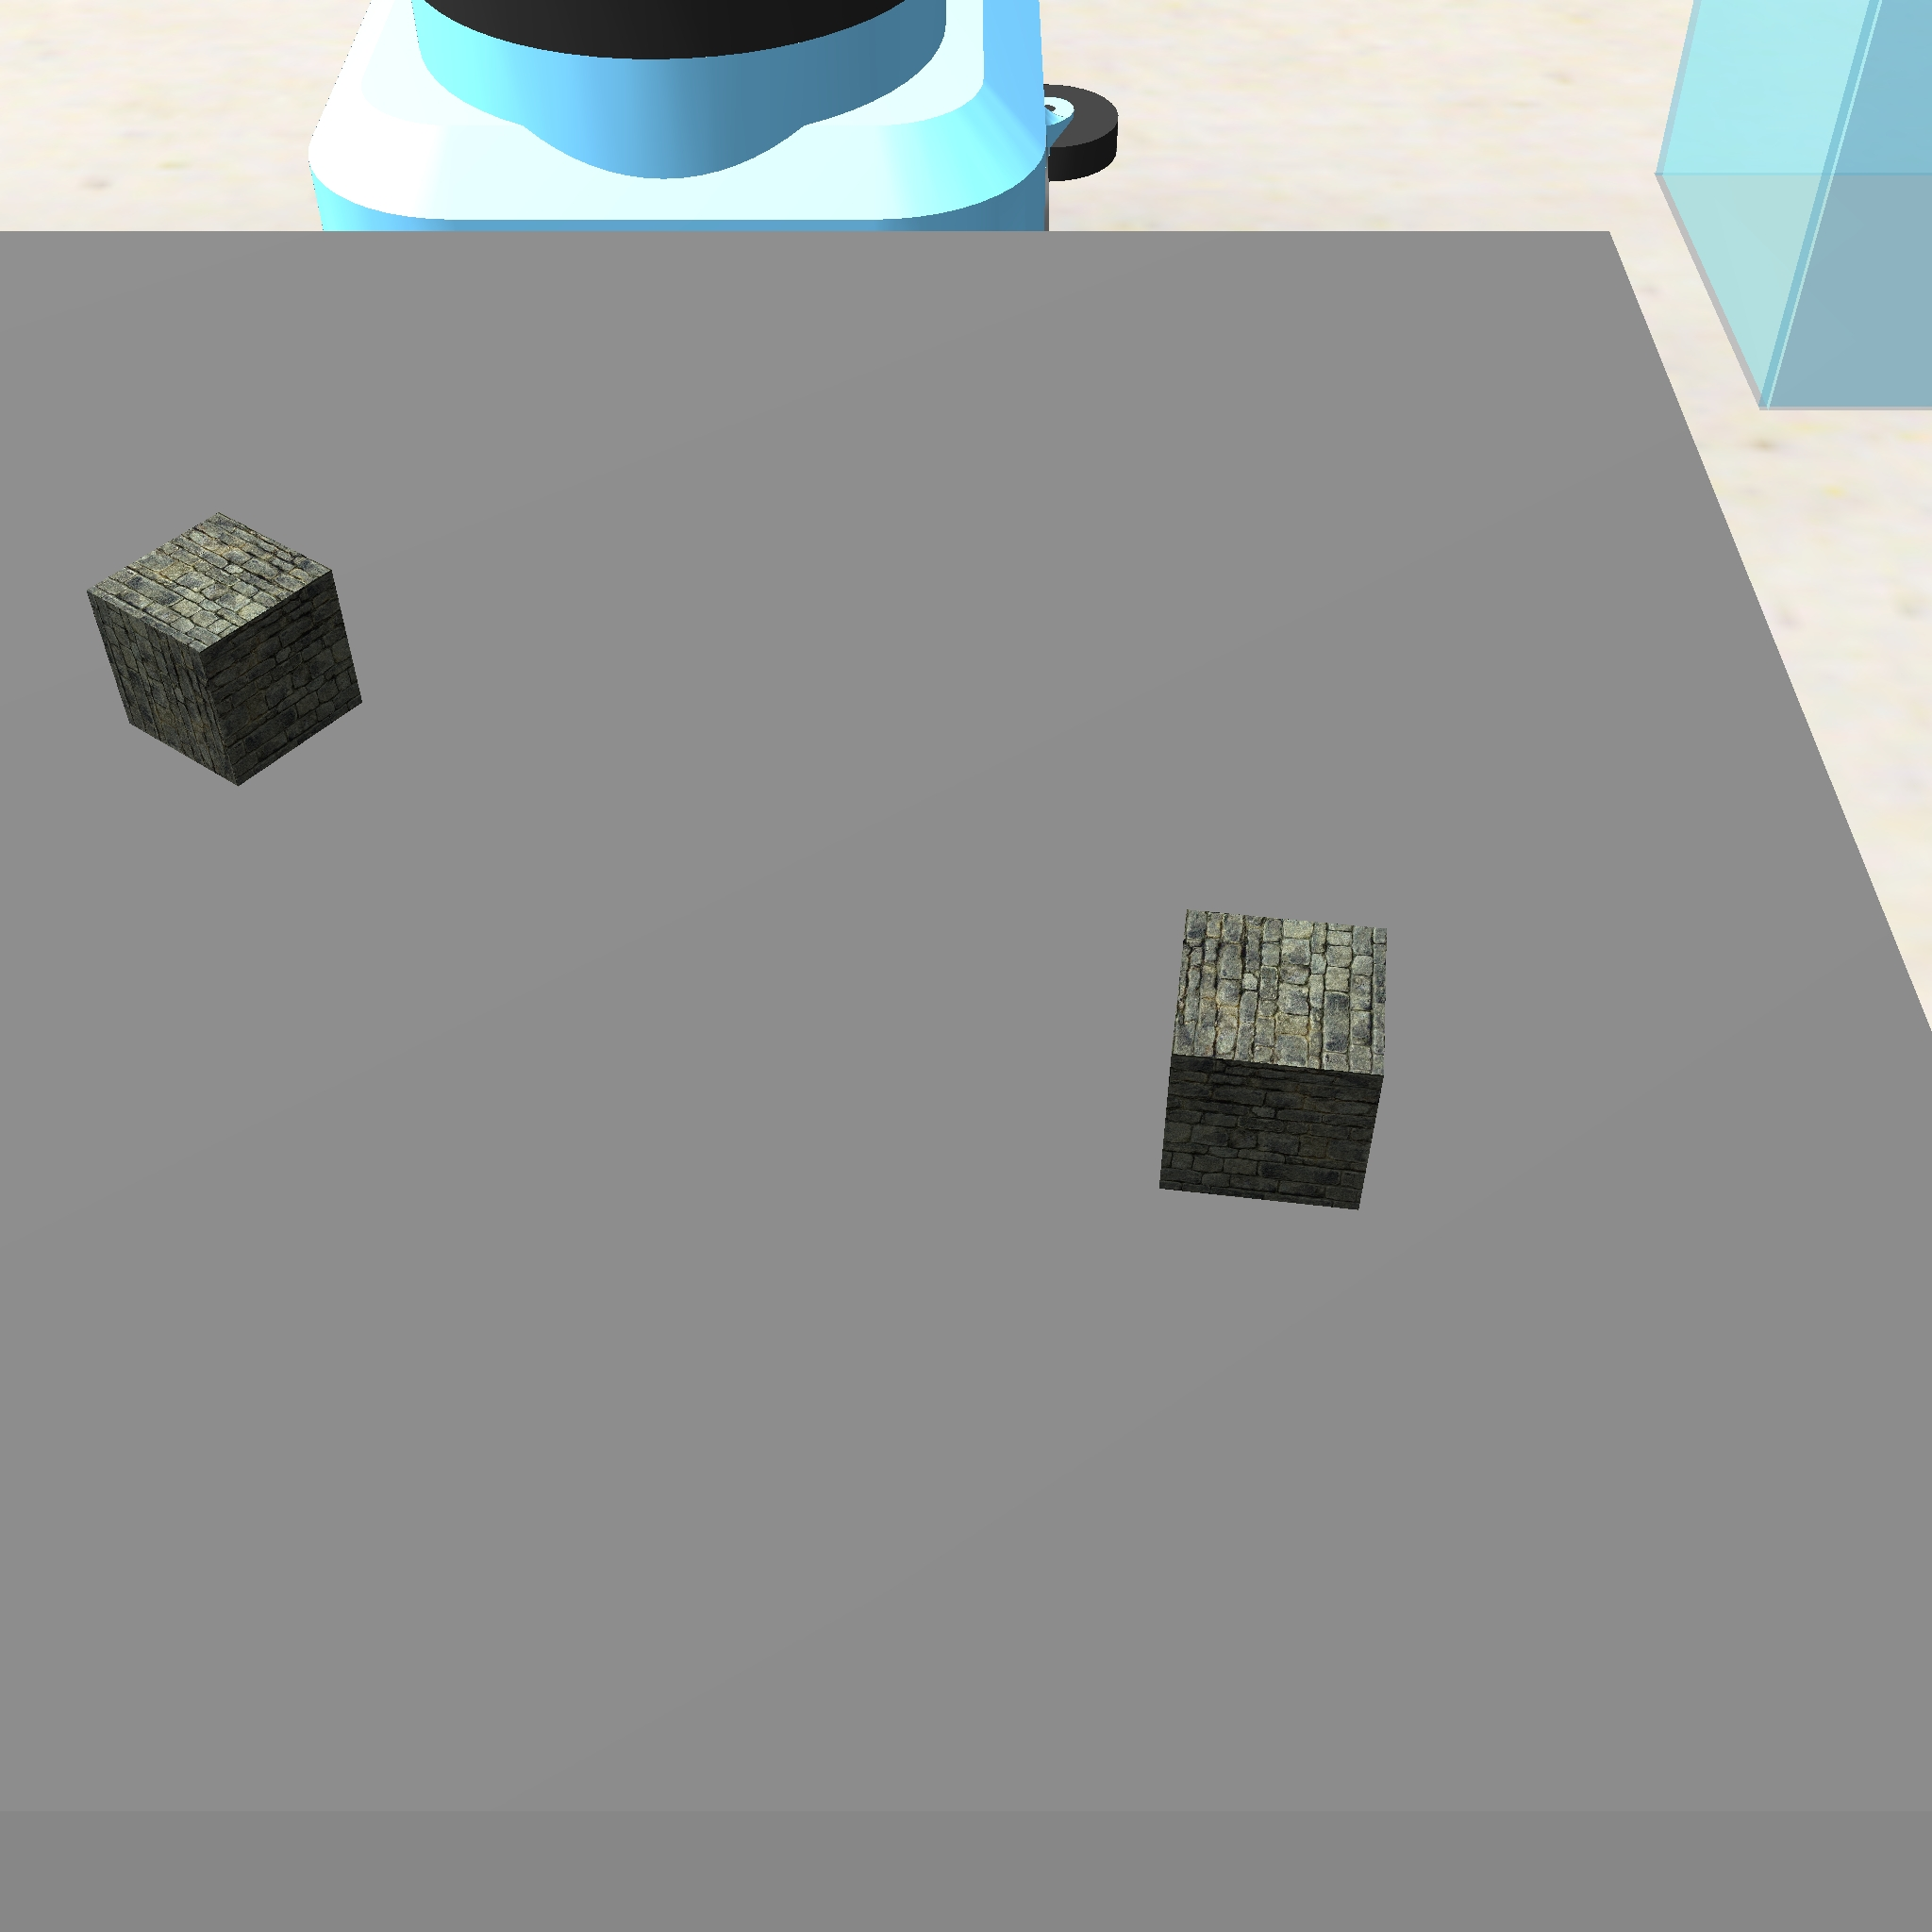cube: (80, 506, 370, 789), (1154, 897, 1396, 1219)
